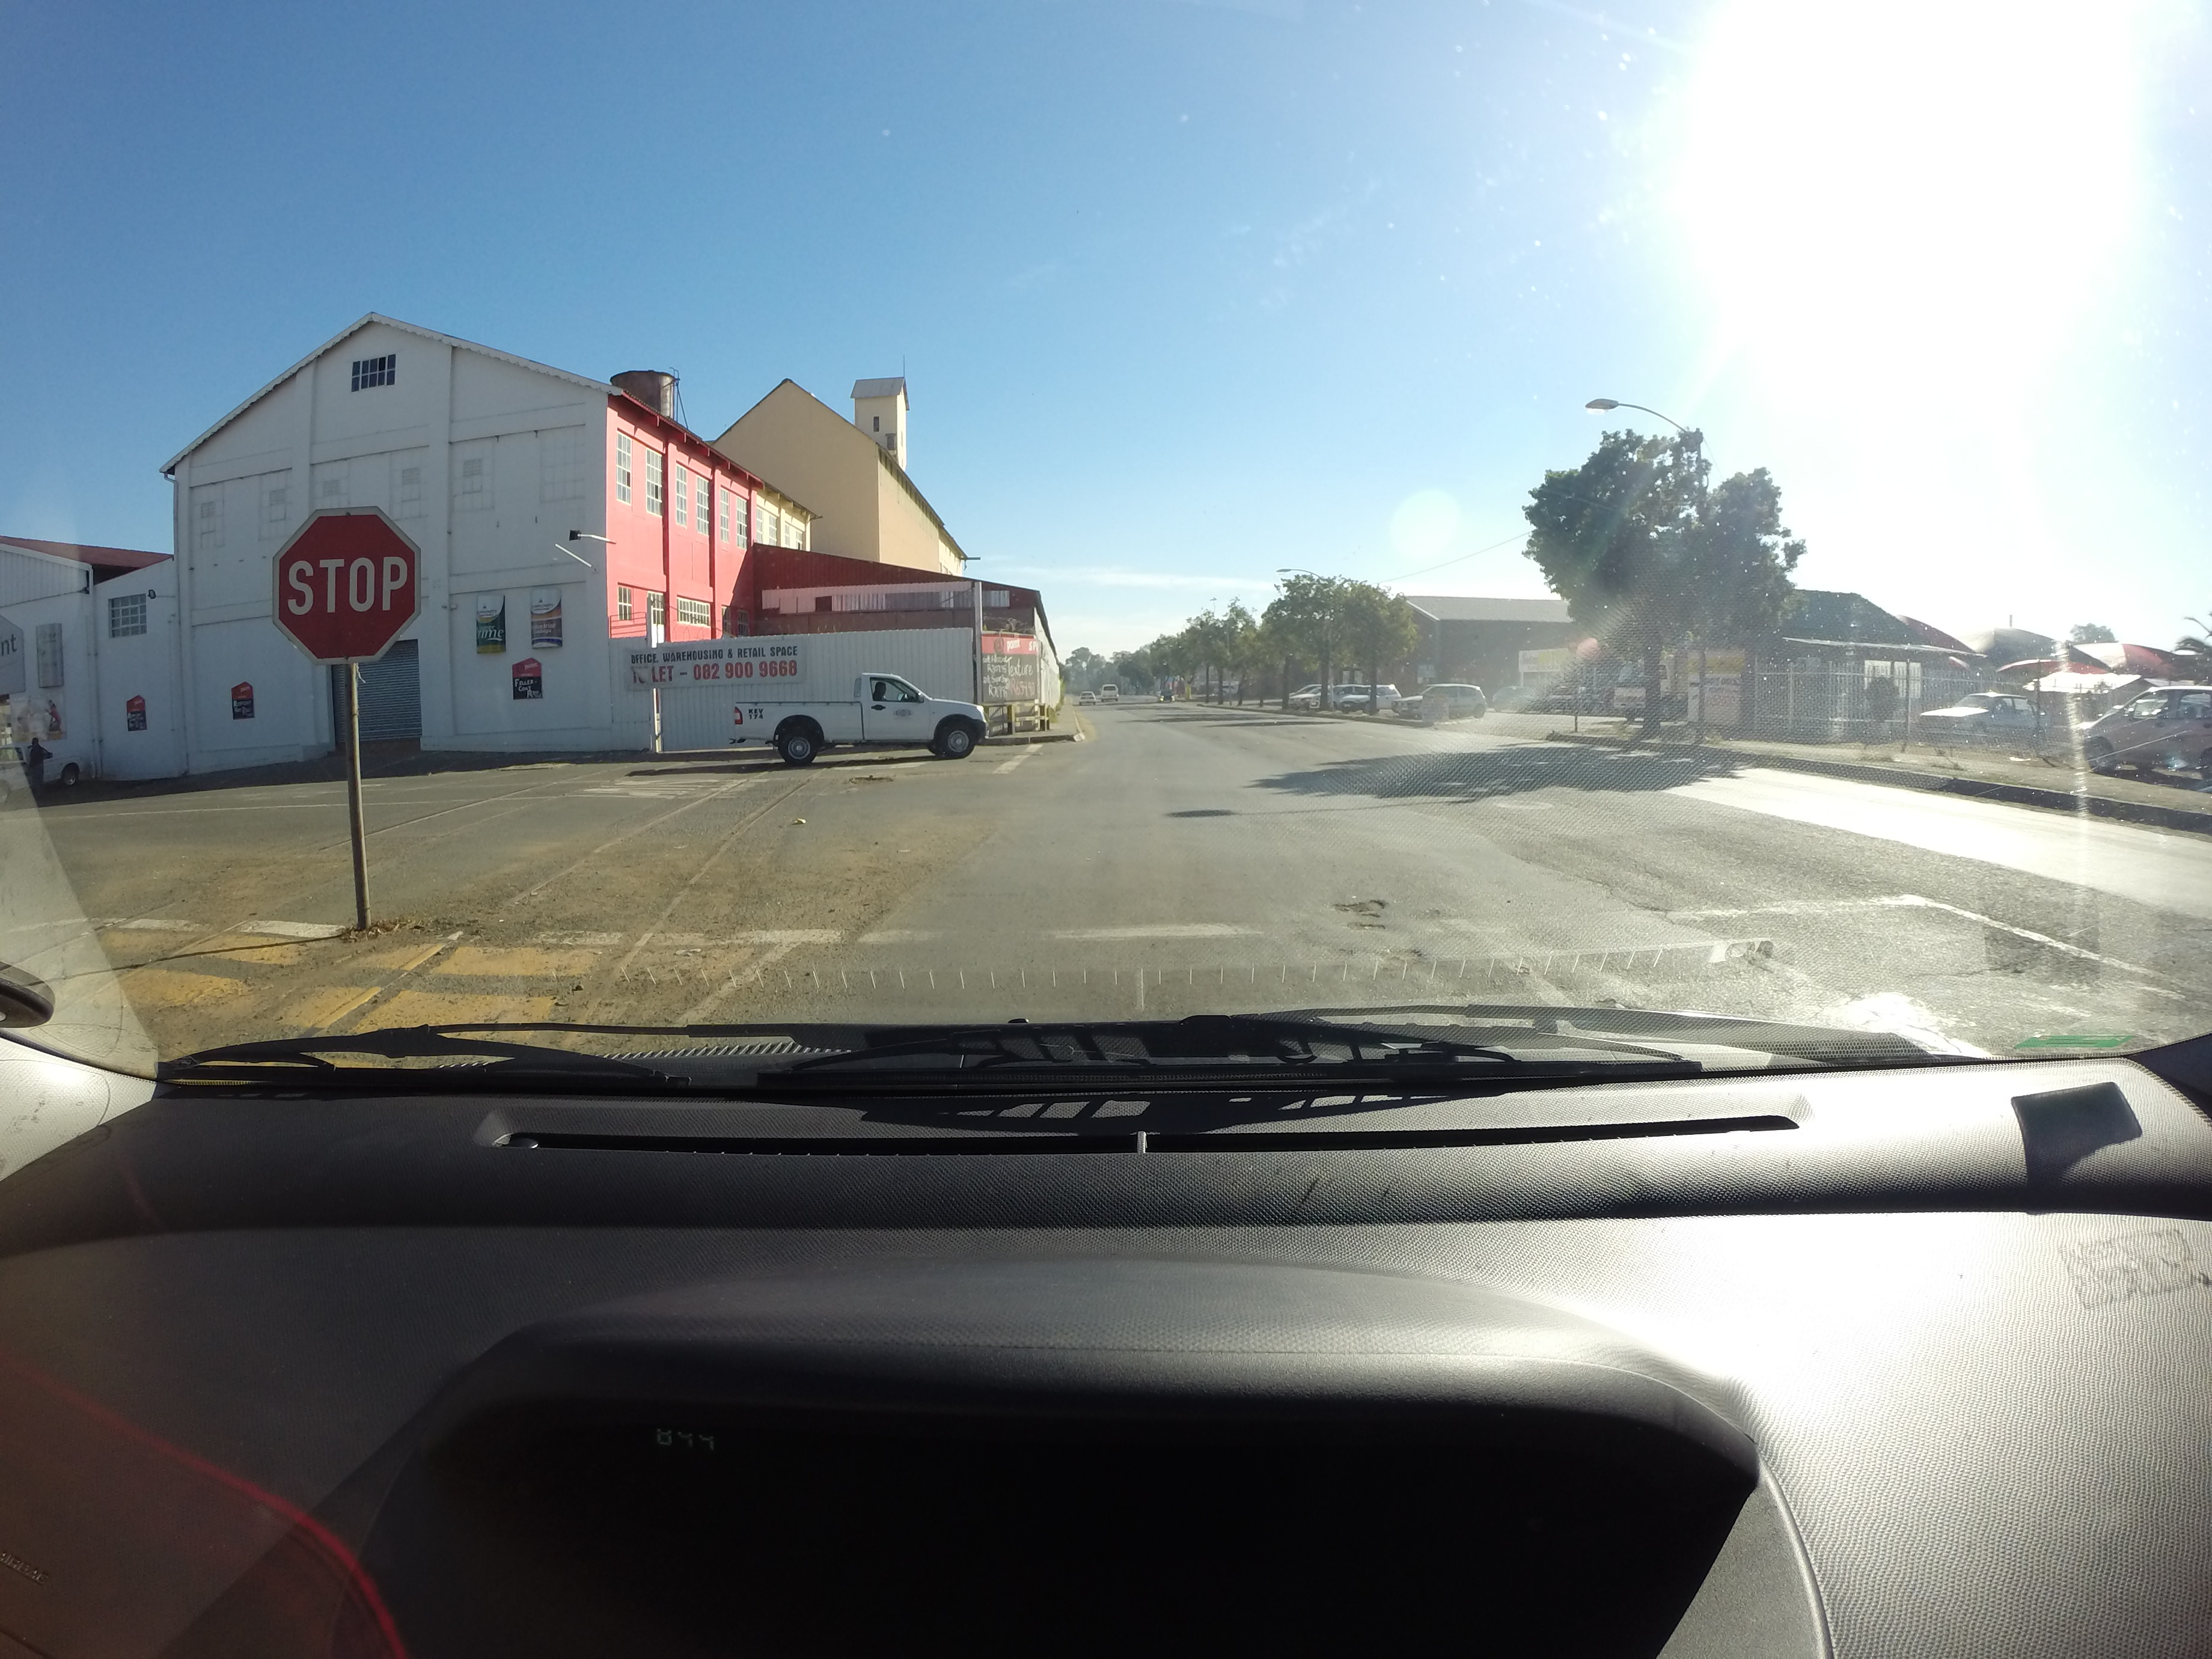pothole: (1331, 880, 1482, 983), (1167, 795, 1263, 835)
